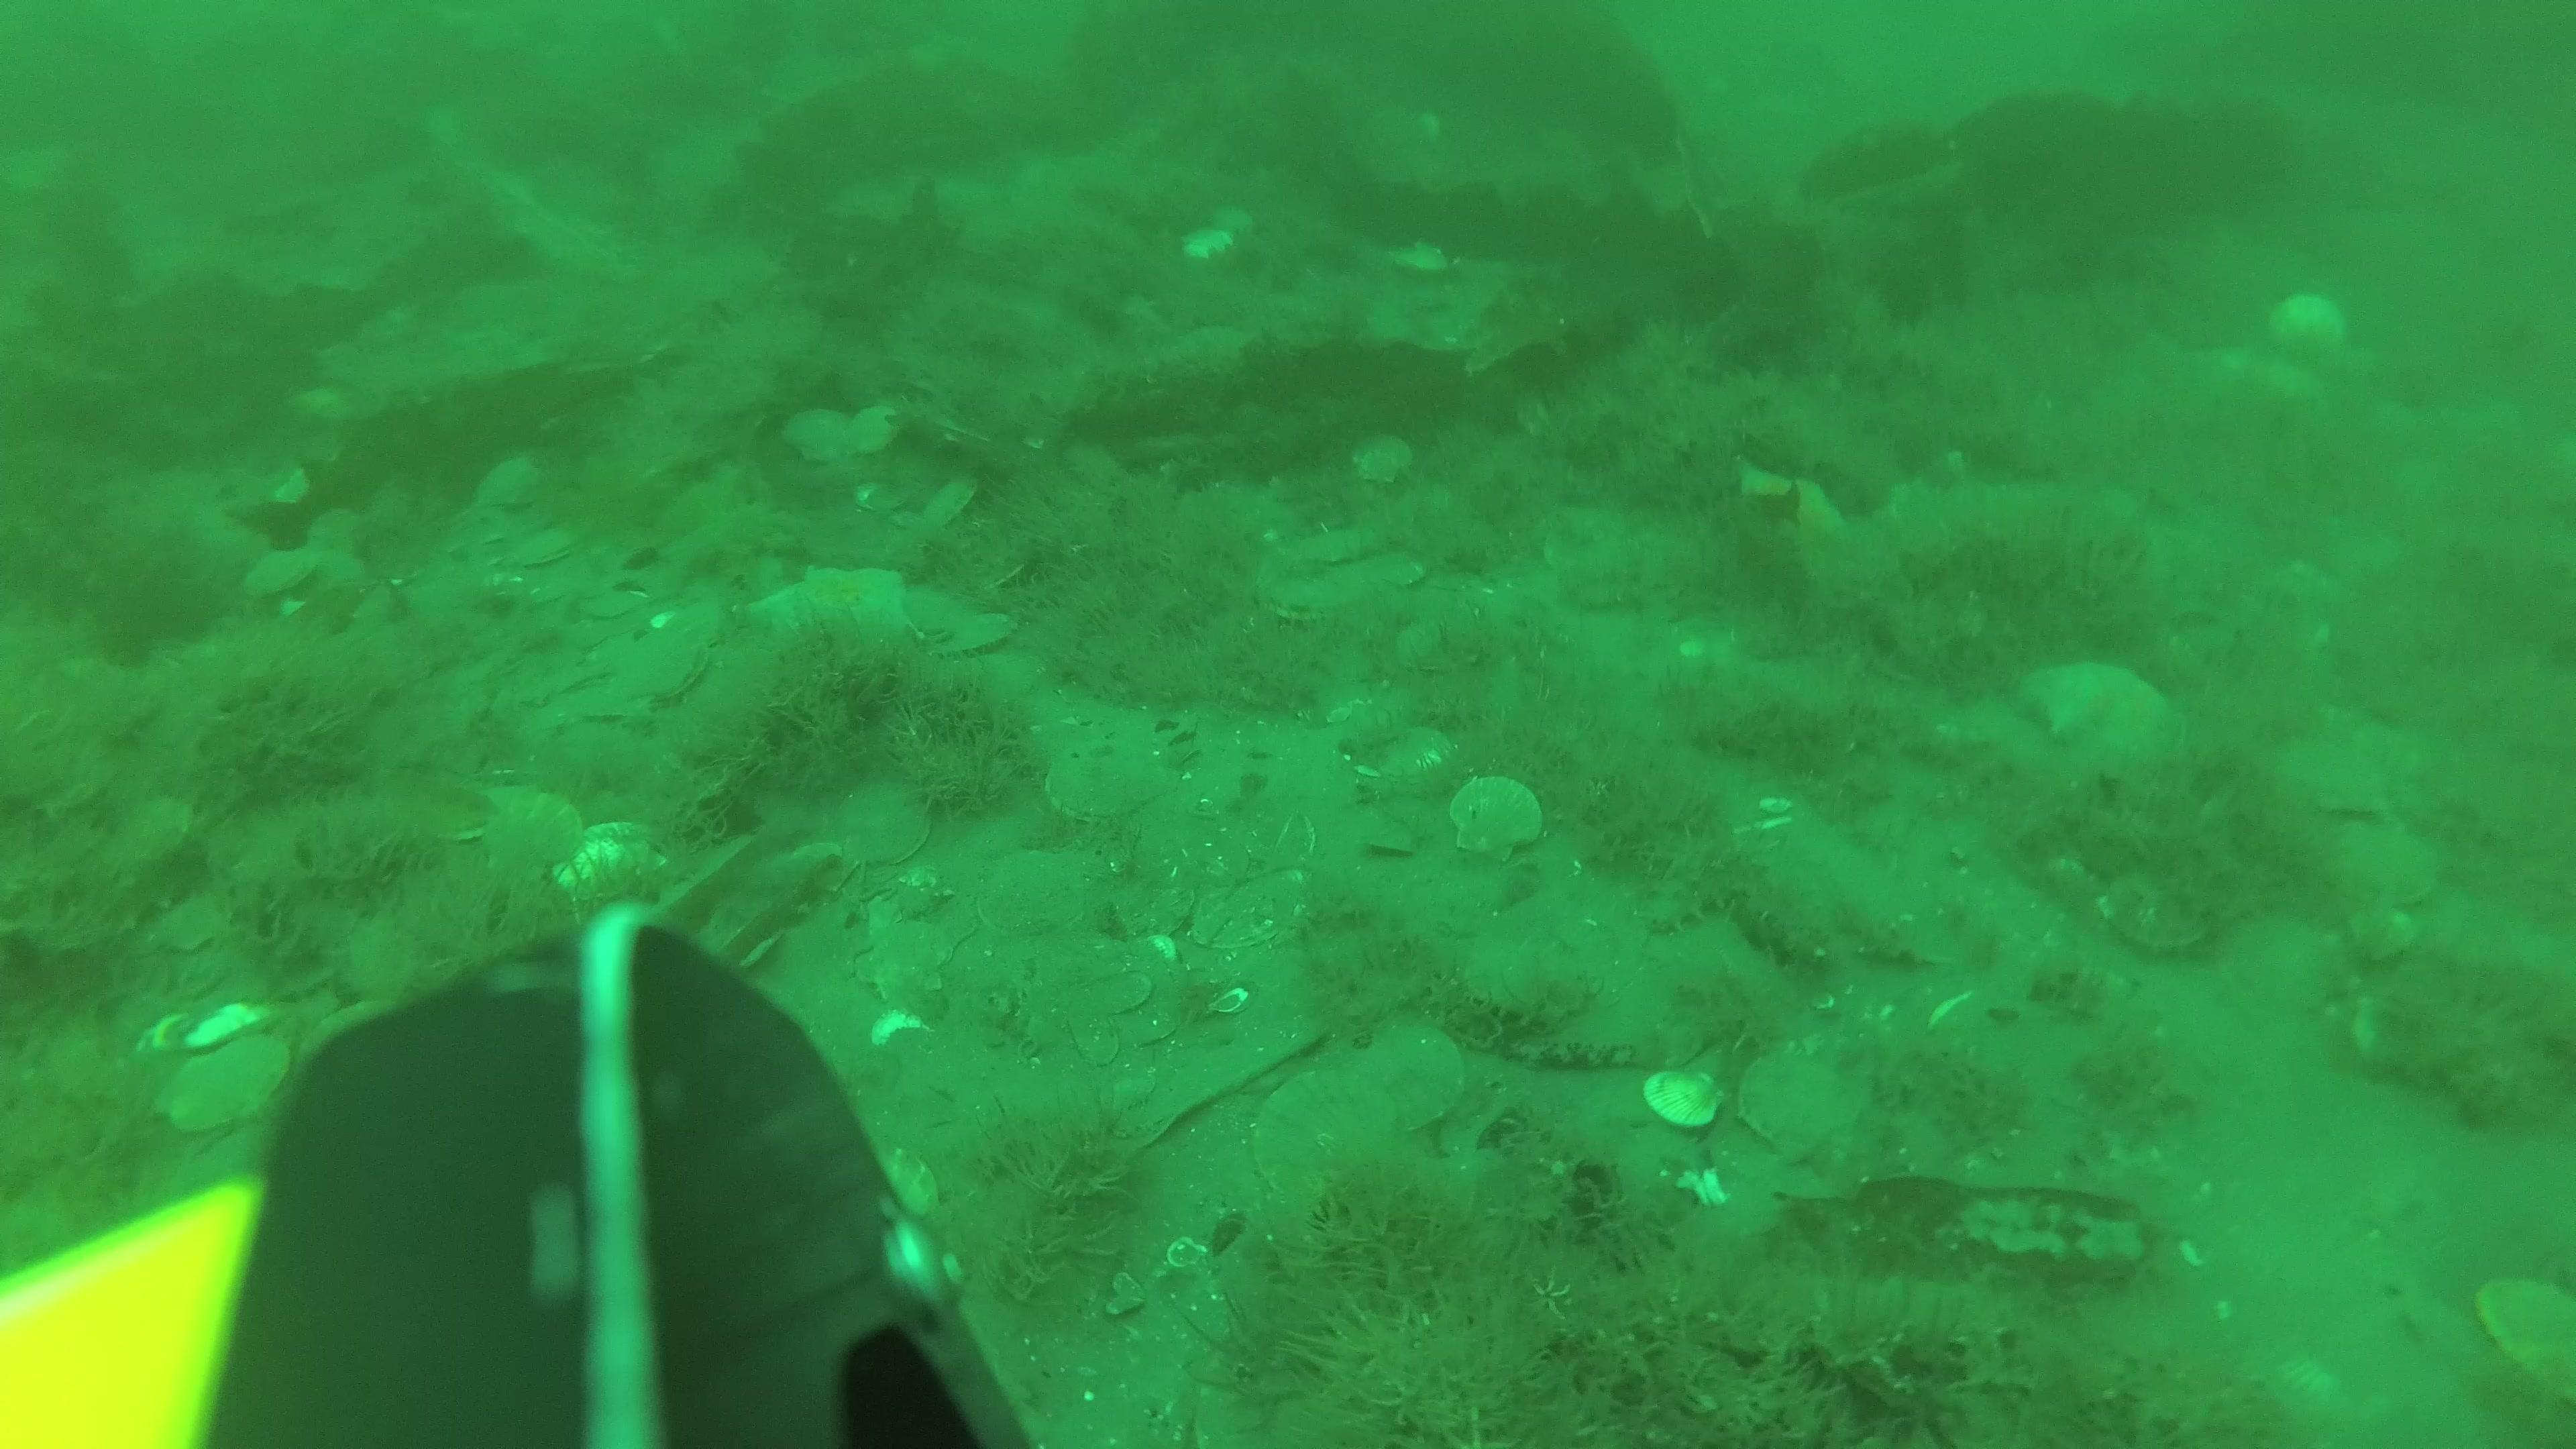holothurian: (1631, 858, 1760, 939)
scallop: (1249, 1065, 1399, 1200), (147, 1028, 295, 1139), (2220, 913, 2357, 1024), (2477, 1267, 2576, 1417), (1734, 1047, 1861, 1159), (1180, 869, 1318, 961), (1035, 740, 1180, 826), (828, 773, 941, 876), (1366, 1023, 1472, 1131), (453, 780, 577, 872), (2327, 817, 2449, 909), (973, 849, 1088, 947), (2277, 731, 2403, 817), (2100, 867, 2219, 952), (855, 920, 964, 1010), (556, 816, 669, 902), (1449, 770, 1548, 865), (147, 883, 246, 961), (2265, 285, 2357, 364), (619, 630, 711, 706), (1368, 718, 1454, 791), (1642, 1065, 1730, 1132), (1394, 619, 1490, 681), (1260, 568, 1352, 628), (780, 402, 858, 469), (931, 610, 1023, 660), (1348, 430, 1419, 488), (244, 545, 318, 600), (1297, 517, 1371, 568), (920, 472, 980, 534), (847, 402, 909, 456), (511, 527, 586, 570)
starfish: (761, 556, 922, 658), (2022, 653, 2178, 757)
